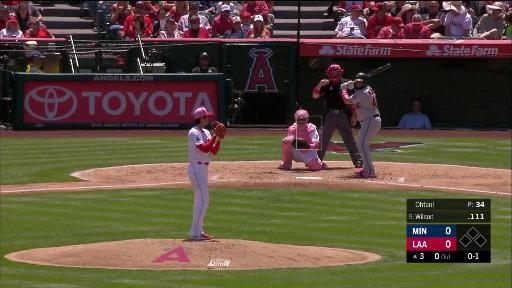pitcher: (187, 107, 227, 241)
